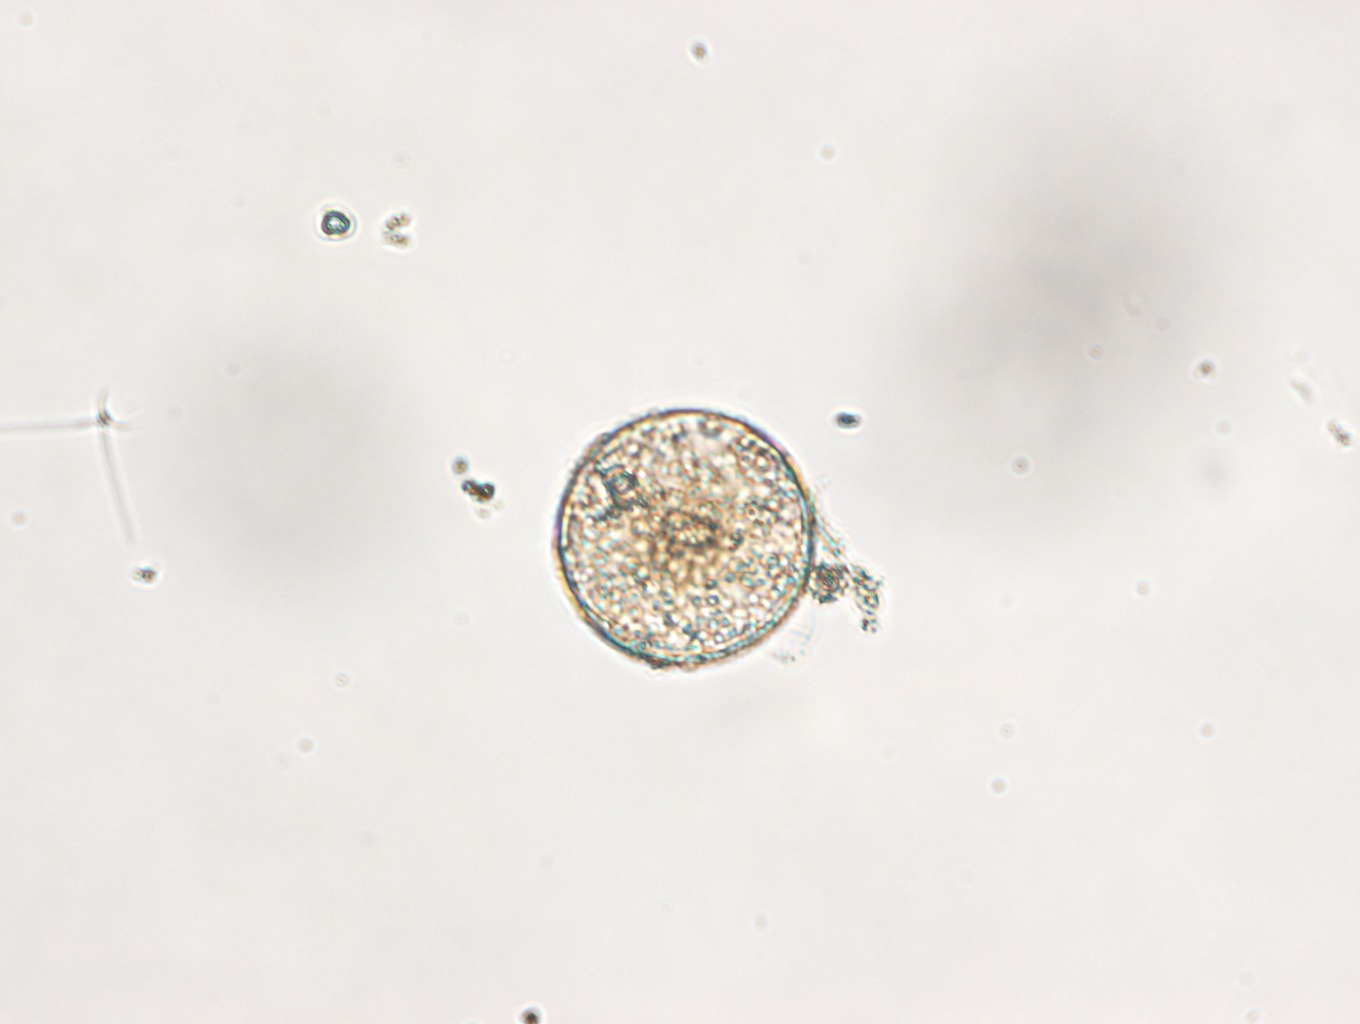coscinodiscus: (553, 408, 817, 670)
